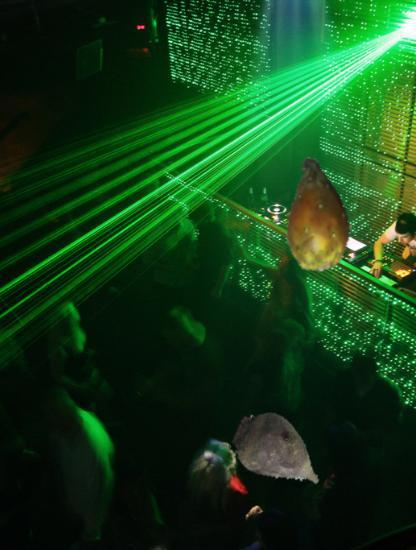Beetroot: (230, 400, 331, 501)
Cactus: (260, 156, 376, 272)
